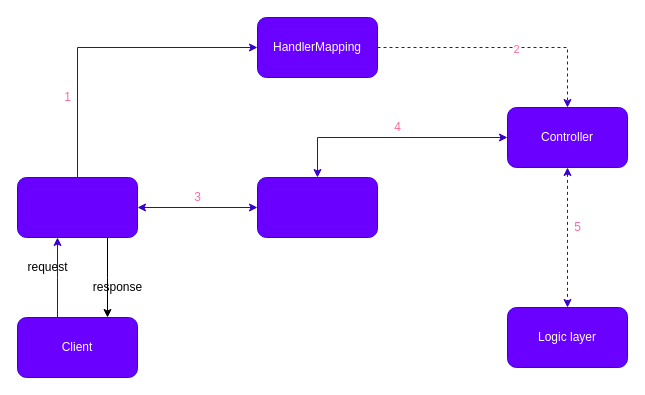
The diagram is 645 pixels wide and 395 high, and some of its shapes have lost their labels. The shapes that lost their labels are listed below. From the top down, each one's centre as x and y in pixels, then its label:
At point 77,207: "DispatcherServlet".
At point 317,207: "HandlerAdaptor".
